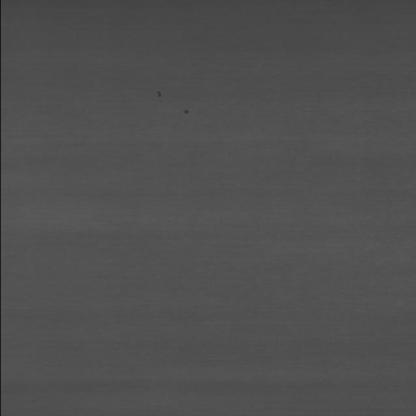inclusion: (172, 104, 198, 119), (146, 90, 169, 100)
